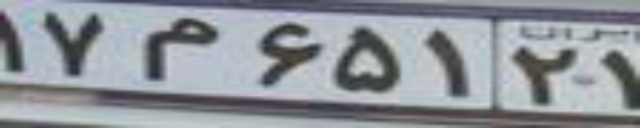1: (423, 29, 470, 96), (596, 46, 638, 109), (0, 8, 25, 73)
2: (508, 42, 579, 106)
5: (332, 26, 402, 93)
6: (257, 22, 322, 90)
7: (39, 10, 107, 78)
mim: (141, 14, 217, 81)
